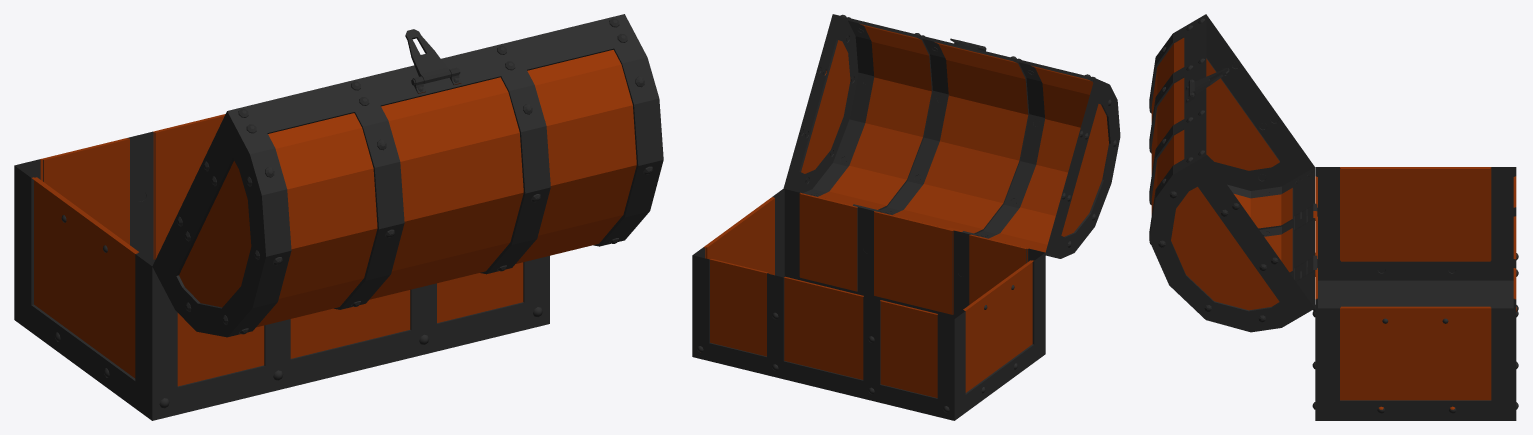
File: Crate.FBX
3 renders of one model, left to right at view 1: azimuth 30°, elevation 25°; view 2: azimuth 150°, elevation 25°; view 3: azimuth 270°, elevation 25°, orthographic. The views are drawn at different scales.
Visible parts, largest first — view 1: Up, UpDf, Down, DownDF; view 2: Up, Down, DownDF, UpDf; view 3: Up, Down, DownDF, UpDf.
Boxes of the visible parts, box(x1,y1,x2,y2) form: Up: box(152, 14, 663, 337); UpDf: box(179, 50, 636, 327); Down: box(14, 114, 549, 420); DownDF: box(17, 115, 224, 266); Up: box(783, 14, 1120, 258); Down: box(692, 188, 1045, 420); DownDF: box(694, 189, 1043, 318); UpDf: box(786, 14, 1108, 236); Up: box(1149, 14, 1314, 332); Down: box(1312, 167, 1518, 420); DownDF: box(1315, 168, 1514, 308); UpDf: box(1151, 16, 1315, 310).
Size of the model in its own units: 700 by 642 by 764.
